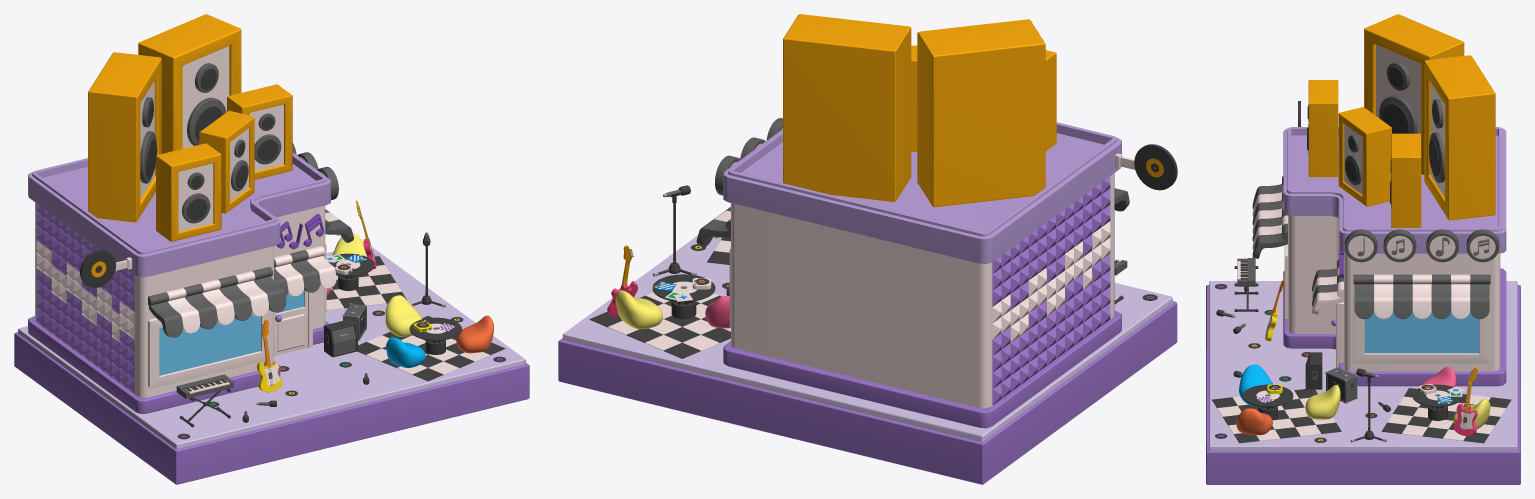
The model's file is Store_Island_13.glb.
3 renders of one model, left to right at view 1: azimuth 30°, elevation 25°; view 2: azimuth 150°, elevation 25°; view 3: azimuth 270°, elevation 25°, orthographic. The views are drawn at different scales.
Parts seen in each view (by area): view 1: Store_13_Music_Store_1, Store_13_Base_1, Store_13_Speaker_2, Store_13_Wall_Studio_1, Store_13_Speaker_5, Store_13_Speaker_1, Store_13_Speaker_3, Store_13_Speaker_4, Store_13_Carpet_2, Store_13_Carpet_1, Store_13_Vinyl_Sign_1, Store_13_Synthesizer_1 (+8 smaller); view 2: Store_13_Music_Store_1, Store_13_Base_1, Store_13_Speaker_2, Store_13_Speaker_5, Store_13_Wall_Studio_1, Store_13_Carpet_1, Store_13_Vinyl_Sign_1, Store_13_Table_1, Store_13_Pouf_2, Store_13_Speaker_1, Store_13_Speaker_4, Store_13_Pouf_1; view 3: Store_13_Music_Store_1, Store_13_Base_1, Store_13_Speaker_5, Store_13_Speaker_2, Store_13_Speaker_4, Store_13_Speaker_1, Store_13_Carpet_1, Store_13_Speaker_3, Store_13_Carpet_2, Store_13_Table_2, Store_13_Note_Sign_2, Store_13_Note_Sign_3 (+13 smaller).
Boxes of the visible parts, x1,y1,x2,y2 form: Store_13_Music_Store_1: (28,152,353,413); Store_13_Base_1: (14,247,529,484); Store_13_Speaker_2: (88,52,161,222); Store_13_Wall_Studio_1: (36,204,134,393); Store_13_Speaker_5: (138,14,241,153); Store_13_Speaker_1: (156,143,221,241); Store_13_Speaker_3: (227,84,292,179); Store_13_Speaker_4: (199,110,254,213); Store_13_Carpet_2: (357,316,505,381); Store_13_Carpet_1: (326,256,407,310); Store_13_Vinyl_Sign_1: (80,249,132,287); Store_13_Synthesizer_1: (176,374,233,427); Store_13_Music_Store_1: (696,122,1129,428); Store_13_Base_1: (558,235,1177,484); Store_13_Speaker_2: (917,19,1045,207); Store_13_Speaker_5: (783,14,911,202); Store_13_Wall_Studio_1: (992,176,1110,405); Store_13_Carpet_1: (589,292,730,358); Store_13_Vinyl_Sign_1: (1115,144,1177,190); Store_13_Table_1: (652,274,715,319); Store_13_Pouf_2: (615,290,662,329); Store_13_Speaker_1: (1045,50,1056,150); Store_13_Speaker_4: (911,45,917,151); Store_13_Pouf_1: (705,295,729,328); Store_13_Music_Store_1: (1252,127,1506,386); Store_13_Base_1: (1206,281,1520,484); Store_13_Speaker_5: (1424,55,1495,220); Store_13_Speaker_2: (1364,14,1464,175); Store_13_Speaker_4: (1338,107,1391,206); Store_13_Speaker_1: (1307,80,1338,177); Store_13_Carpet_1: (1381,388,1511,443); Store_13_Speaker_3: (1390,133,1421,227); Store_13_Carpet_2: (1212,389,1341,443); Store_13_Table_2: (1242,384,1293,420); Store_13_Note_Sign_2: (1426,229,1458,262); Store_13_Note_Sign_3: (1383,229,1416,262).
Size of the model in its own units: 14.98 by 11.38 by 10.49.
48 materials, 48 textured.
